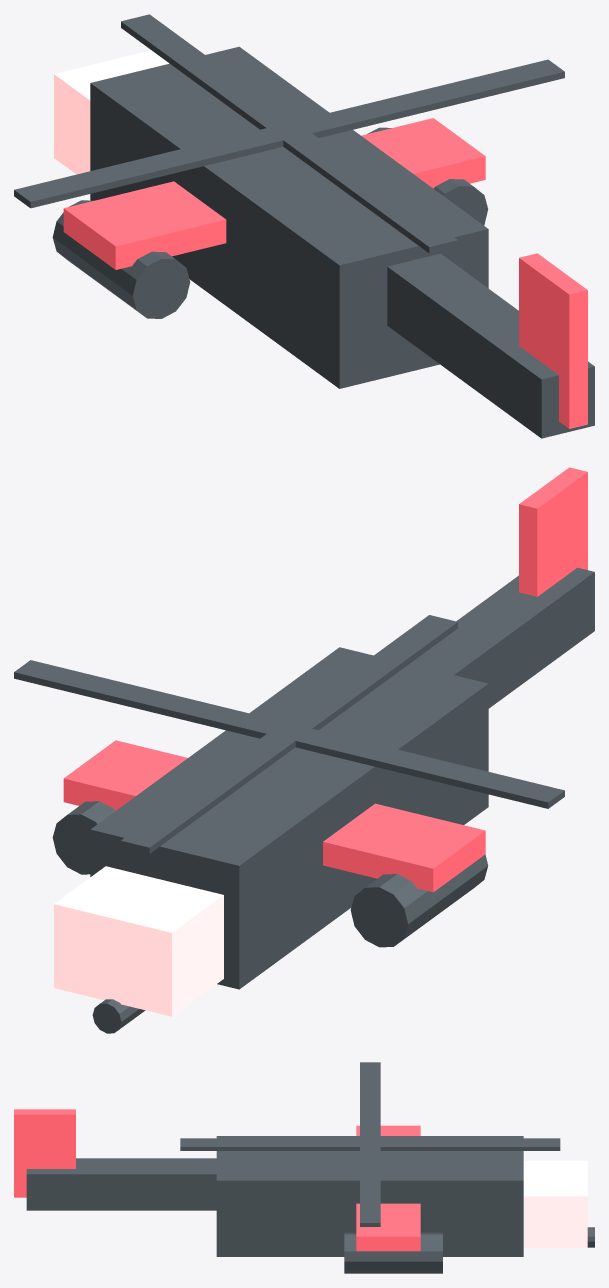
File: gunship.glb
3 views of the same model, one above another, from view 1: azimuth 30°, elevation 25°; view 2: azimuth 150°, elevation 25°; view 3: azimuth 270°, elevation 25° (orthographic). The views are drawn at different scales.
Visible parts, largest first — view 1: Fuselage, TailBoom, StubWingL, MainRotorA, MainRotorB, TailFin, RocketPodL, NoseCanopy, RocketPodR; view 2: Fuselage, NoseCanopy, StubWingL, TailBoom, MainRotorA, MainRotorB, TailFin, RocketPodL, RocketPodR, ChinAutocannon; view 3: Fuselage, TailBoom, NoseCanopy, MainRotorB, TailFin, MainRotorA, StubWingL, RocketPodR.
Boxes of the visible parts, box(x1,y1,x2,y2) form: Fuselage: box(90, 46, 488, 388); TailBoom: box(387, 253, 594, 438); StubWingL: box(63, 118, 485, 269); MainRotorA: box(14, 59, 564, 208); MainRotorB: box(121, 14, 457, 253); TailFin: box(519, 253, 587, 428); RocketPodL: box(52, 200, 190, 318); NoseCanopy: box(54, 50, 169, 174); RocketPodR: box(367, 127, 488, 225); Fuselage: box(90, 647, 488, 989); NoseCanopy: box(54, 866, 223, 1016); StubWingL: box(63, 740, 485, 892); TailBoom: box(409, 567, 594, 708); MainRotorA: box(14, 660, 564, 808); MainRotorB: box(121, 615, 457, 853); TailFin: box(519, 467, 587, 596); RocketPodL: box(350, 854, 488, 947); RocketPodR: box(52, 801, 115, 874); ChinAutocannon: box(92, 999, 145, 1033); Fuselage: box(216, 1136, 523, 1256); TailBoom: box(26, 1158, 216, 1210); NoseCanopy: box(523, 1160, 587, 1247); MainRotorB: box(180, 1138, 560, 1150); TailFin: box(14, 1109, 75, 1197); MainRotorA: box(360, 1062, 380, 1226); StubWingL: box(356, 1125, 420, 1251); RocketPodR: box(344, 1232, 442, 1273).
Size of the model in its own units: 5.2 by 2.04 by 7.95.
